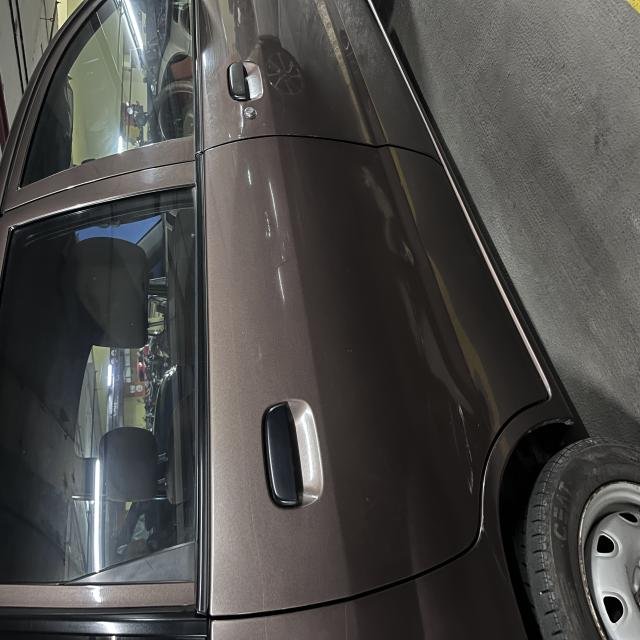scratch: (95, 596, 195, 636)
